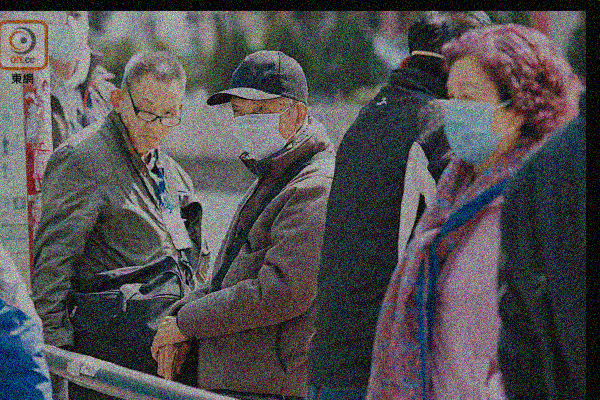with_mask: (444, 78, 513, 167), (229, 95, 294, 157), (45, 11, 91, 65)
without_mask: (119, 93, 181, 150)
